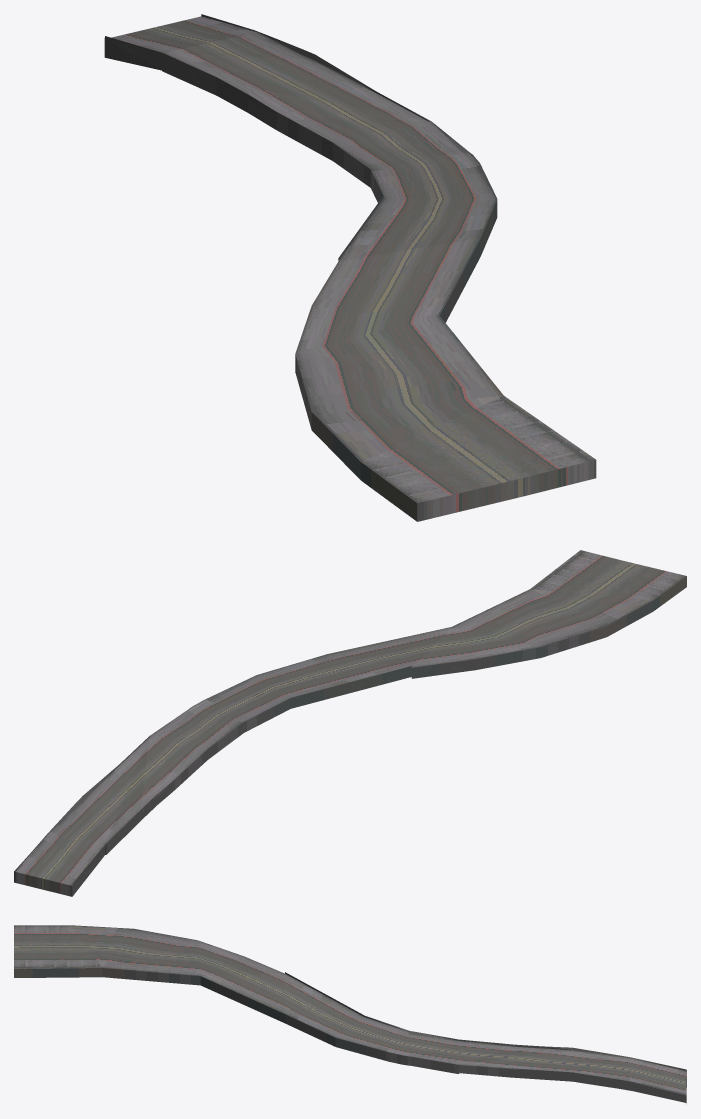
Rendered from lodroads_sfw10.obj.
3 views of the same model, one above another, from view 1: azimuth 30°, elevation 25°; view 2: azimuth 150°, elevation 25°; view 3: azimuth 270°, elevation 25° (orthographic). The views are drawn at different scales.
Parts seen in each view (by area): view 1: LODroads_sfw10; view 2: LODroads_sfw10; view 3: LODroads_sfw10.
Boxes of the visible parts, x1,y1,x2,y2 form: LODroads_sfw10: (104,14,596,521); LODroads_sfw10: (14,550,686,896); LODroads_sfw10: (14,925,686,1103).
Size of the model in its own units: 93.03 by 26.22 by 236.
1 material, 1 textured.
